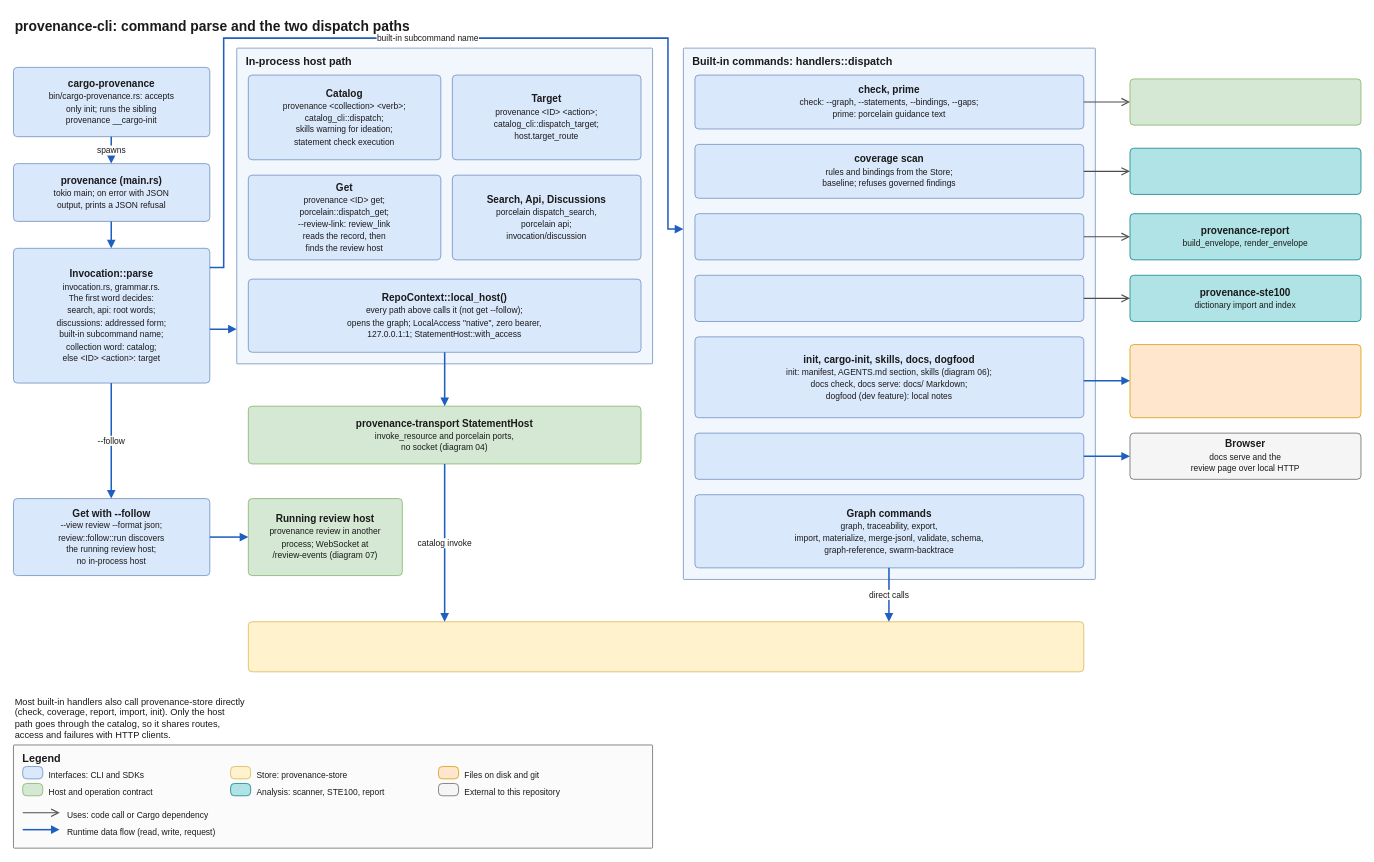
Image size: 1374x862. Some labels were removed from this diagram. Each missing label, with the centre of its shape:
"dictionary import an STE100 PDF; project dictionary (diagram 10)" goes at (889,298).
"Files AGENTS.md, .agents/skills/, docs/, ~/.provenance/dogfood/" goes at (1245,381).
"provenance-porcelain check report, guidance" goes at (1245,101).
"provenance-scanner scan_to_coverage" goes at (1245,170).
"provenance-store Store::open; queries, writers, cache, catalog (diagrams 02, 03)" goes at (666,646).
"report build, report render envelope over base..head (diagram 09)" goes at (889,236).
"review local review host server (diagram 07)" goes at (889,455).
